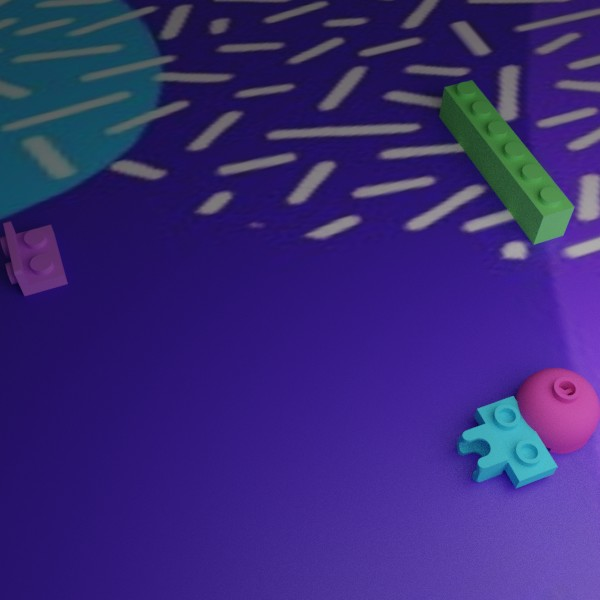lego: (439, 80, 574, 244), (456, 395, 557, 488), (511, 367, 600, 453), (0, 221, 67, 296)
